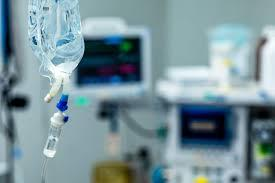Iv_Bottle: (29, 0, 83, 73)
